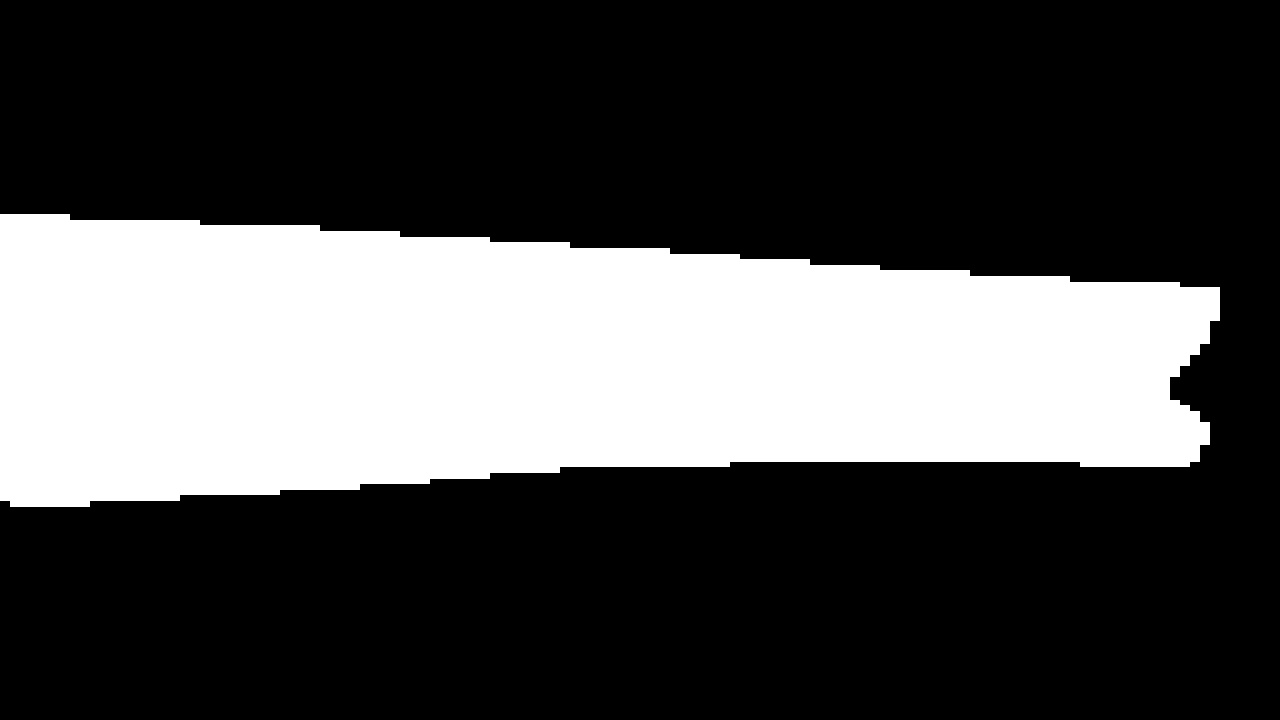Turbine: (11, 206, 1232, 512)
